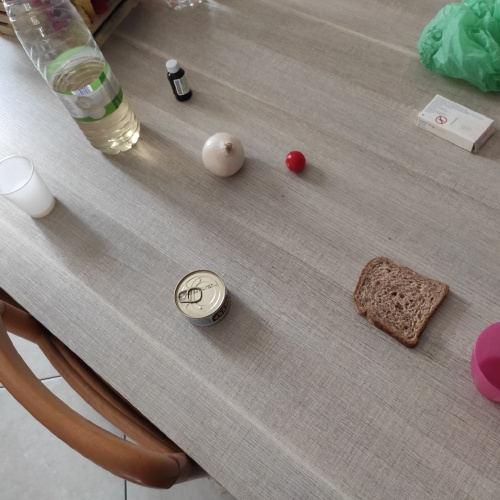cipolla: (200, 128, 248, 183)
pane: (350, 251, 457, 357)
pomodoro: (281, 146, 311, 179)
tonno: (171, 267, 237, 332)
